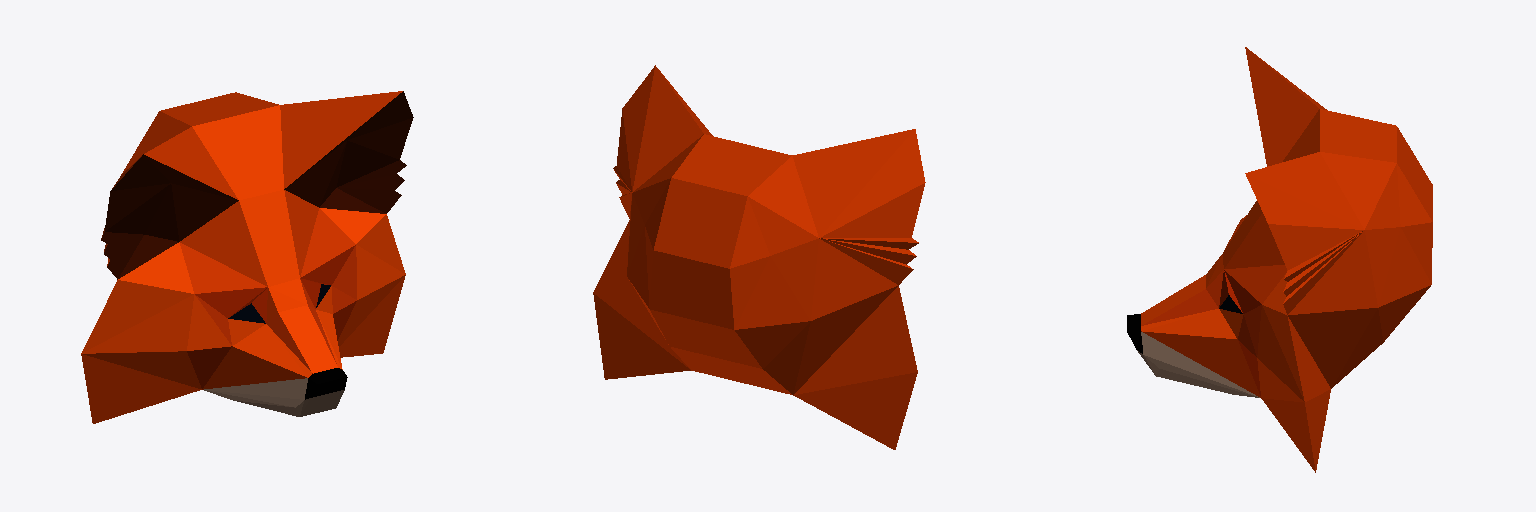
File: fox.obj
3 renders of one model, left to right at view 1: azimuth 30°, elevation 25°; view 2: azimuth 150°, elevation 25°; view 3: azimuth 270°, elevation 25°, orthographic.
Bounding box in the file's own units: 244 × 210 × 199.